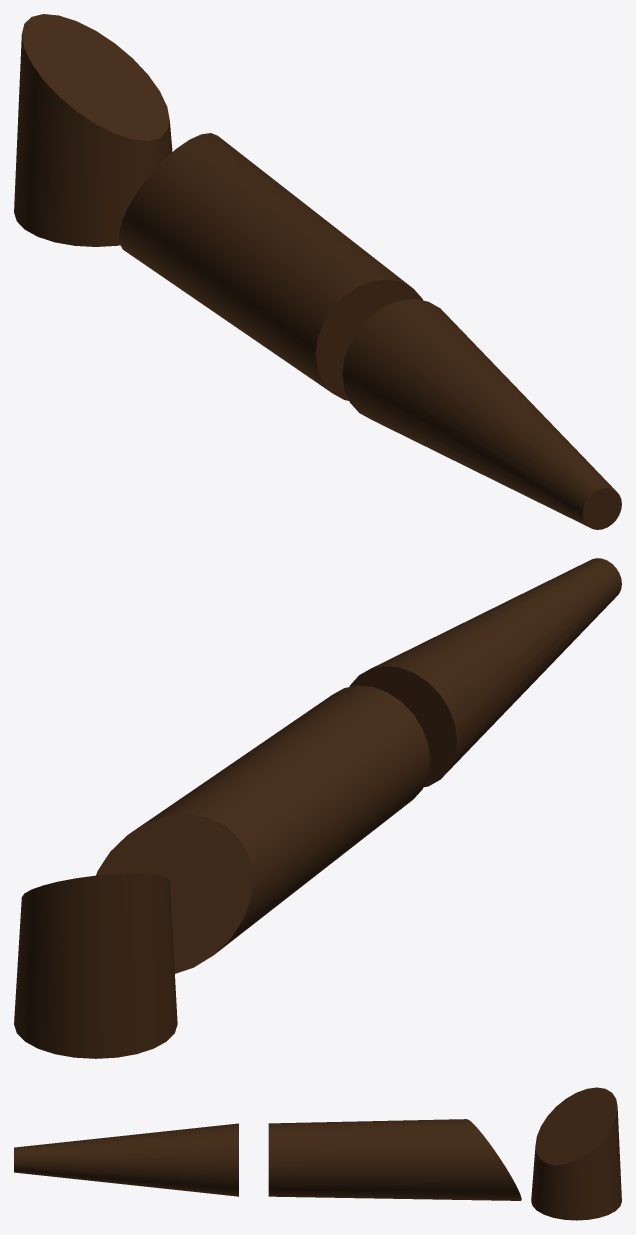
The model's file is LOGS.fbx.
3 renders of one model, top to bottom at view 1: azimuth 30°, elevation 25°; view 2: azimuth 150°, elevation 25°; view 3: azimuth 270°, elevation 25°, orthographic. The views are drawn at different scales.
Parts seen in each view (by area): view 1: Cylinder.004, Cylinder.006, Cylinder.003; view 2: Cylinder.004, Cylinder.003, Cylinder.006; view 3: Cylinder.004, Cylinder.006, Cylinder.003.
Boxes of the visible parts, bbox=[...] form: Cylinder.004: bbox=[119, 133, 423, 400]; Cylinder.006: bbox=[342, 299, 621, 529]; Cylinder.003: bbox=[14, 14, 172, 246]; Cylinder.004: bbox=[96, 685, 430, 973]; Cylinder.003: bbox=[14, 873, 177, 1058]; Cylinder.006: bbox=[349, 558, 621, 787]; Cylinder.004: bbox=[268, 1119, 521, 1200]; Cylinder.006: bbox=[14, 1123, 238, 1196]; Cylinder.003: bbox=[531, 1087, 621, 1220].
Size of the model in its own units: 247 by 301 by 1653.
